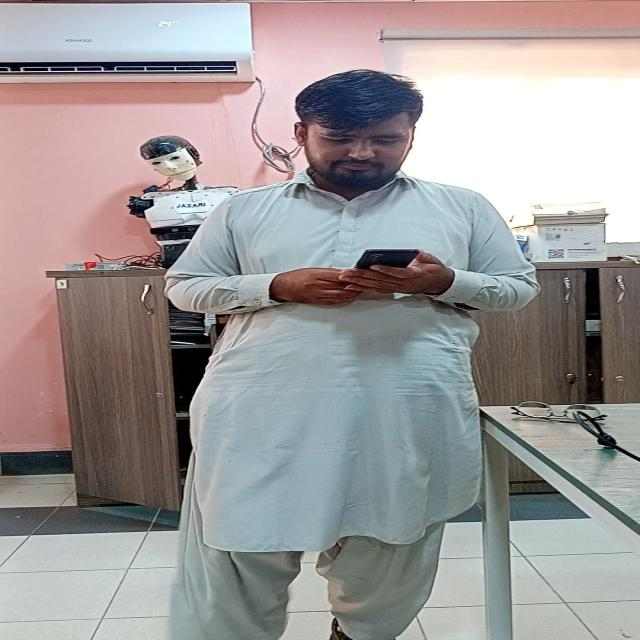dress: (168, 169, 540, 640)
